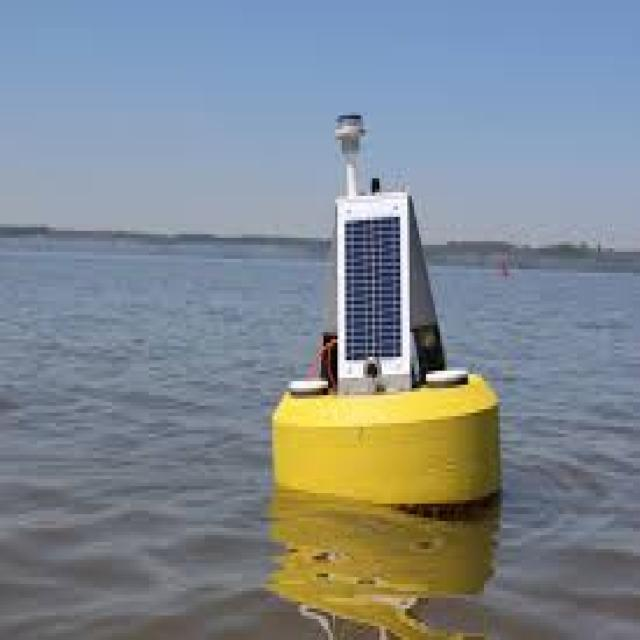2.5 sepcial mark: (268, 76, 506, 532)
